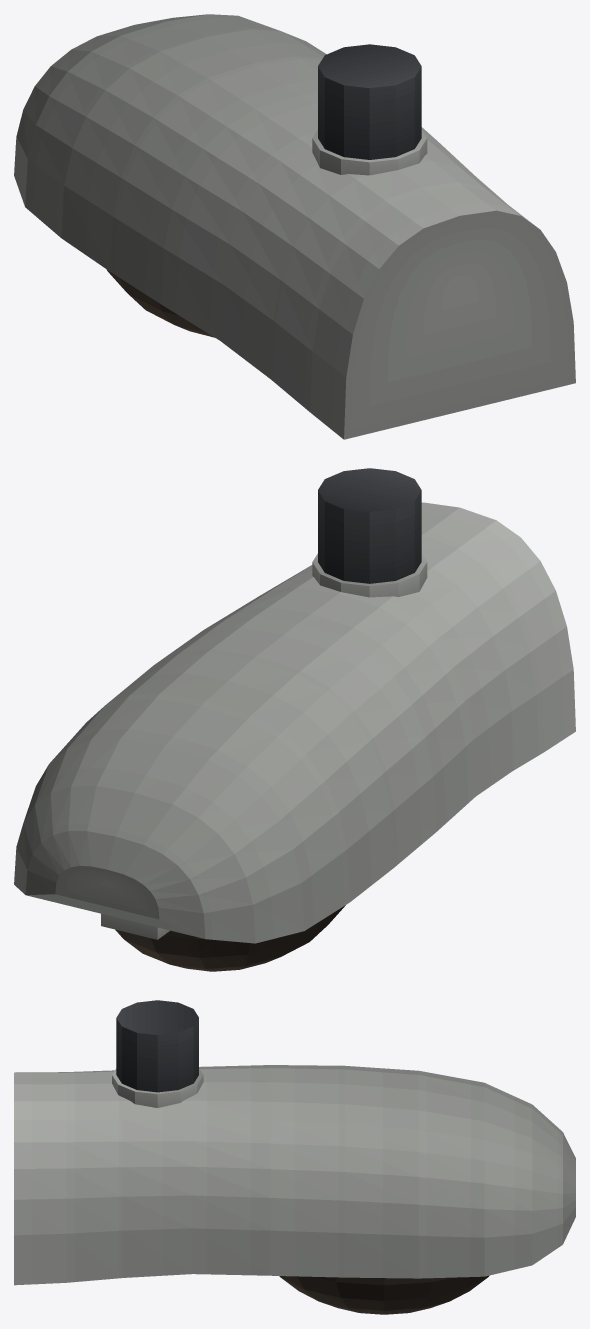
File: streetlight_gem250a.obj
3 views of the same model, one above another, from view 1: azimuth 30°, elevation 25°; view 2: azimuth 150°, elevation 25°; view 3: azimuth 270°, elevation 25° (orthographic). The views are drawn at different scales.
Visible parts, largest first — view 1: fixture; view 2: fixture; view 3: fixture.
Part boxes in pixels (x1=…): fixture: x1=14, y1=14, x2=575, y2=439; fixture: x1=14, y1=468, x2=575, y2=971; fixture: x1=14, y1=1000, x2=575, y2=1314.
Size of the model in its own units: 0.3813 by 0.4522 by 0.8062.
